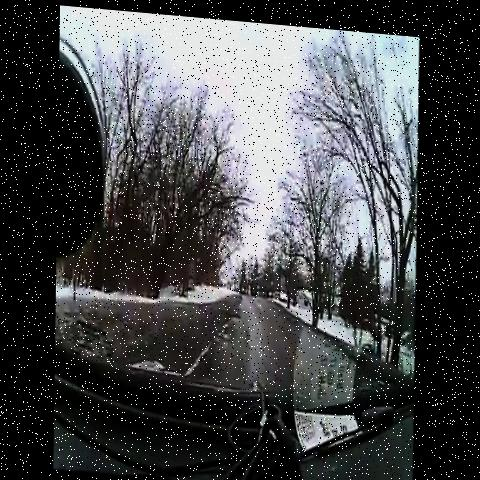pothole: (189, 315, 233, 378), (225, 300, 244, 327)
